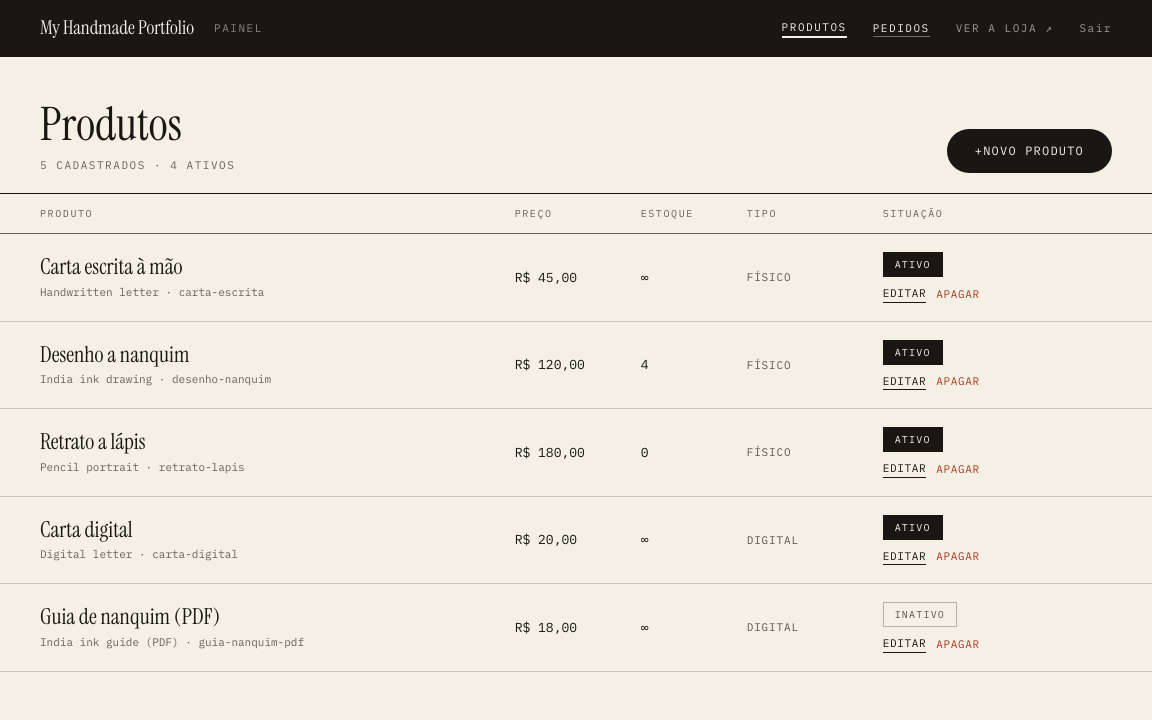
Test: AdminShellContainer · the session guard › signs out, and drops the admin cache with the session
The width and height of the screenshot is (1152, 720).
Expected: the heading "Produtos" is shown, [40,94,182,154]
Click the button "Sair". click: {"x": 1096, "y": 28}
box: [1079,20,1112,36]
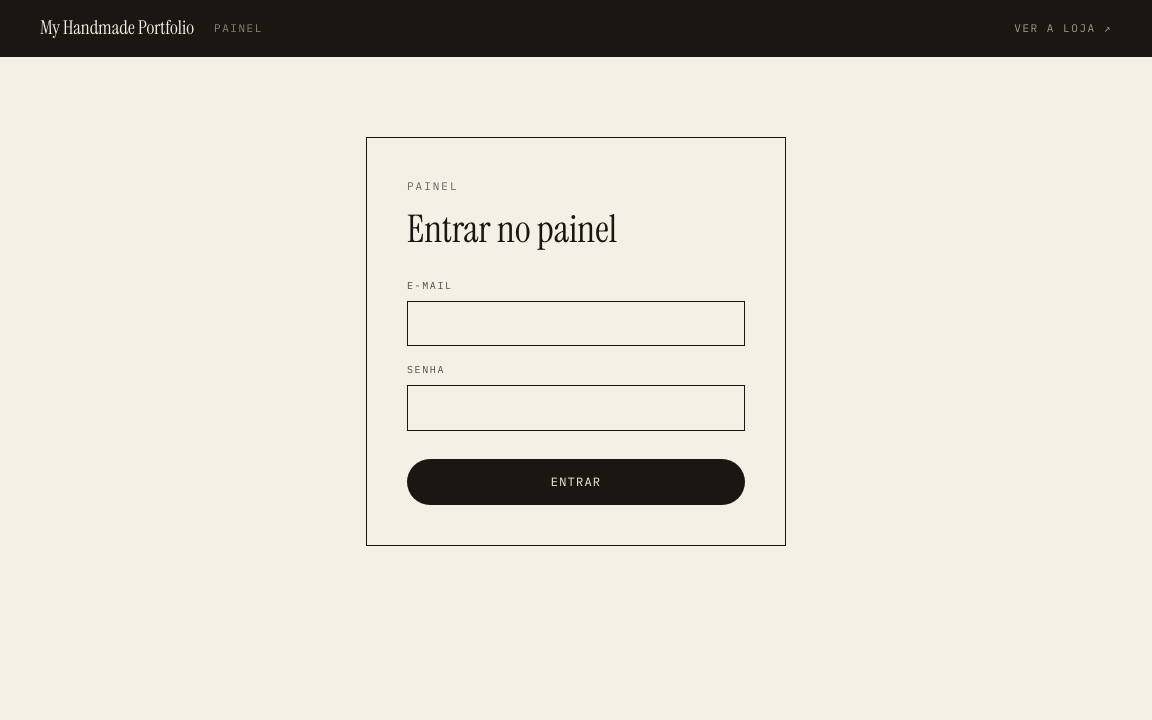
Now the heading "Entrar no painel" is shown, box [407,204,617,254]
